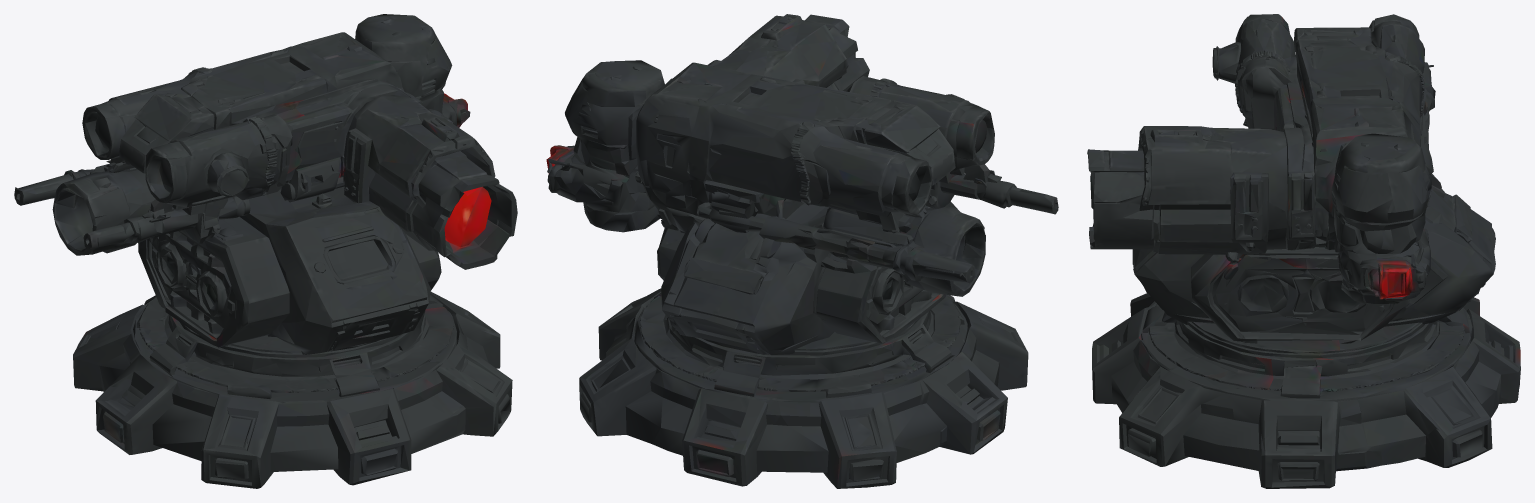
The model's file is mx_map_turret.glb.
3 views of the same model, side by side, from view 1: azimuth 30°, elevation 25°; view 2: azimuth 150°, elevation 25°; view 3: azimuth 270°, elevation 25° (orthographic). The views are drawn at different scales.
Size of the model in its own units: 1.9 by 1.3 by 1.6.
Materials: 1 (1 with a texture image).
